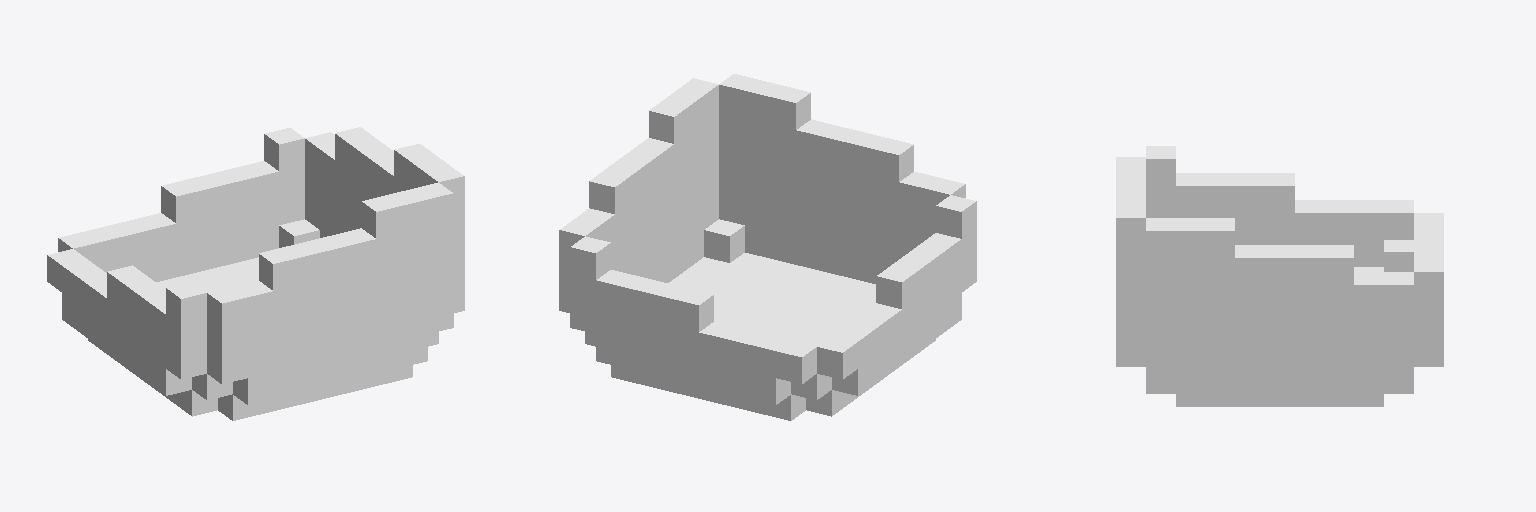
The model's file is egg_spotted_bottomhalf.obj.
3 renders of one model, left to right at view 1: azimuth 30°, elevation 25°; view 2: azimuth 150°, elevation 25°; view 3: azimuth 270°, elevation 25°, orthographic.
Visible parts, largest first — view 1: egg_spotted_bottomhalf; view 2: egg_spotted_bottomhalf; view 3: egg_spotted_bottomhalf.
Boxes of the visible parts, box(x1,y1,x2,y2) form: egg_spotted_bottomhalf: box(47, 127, 464, 420); egg_spotted_bottomhalf: box(559, 74, 976, 420); egg_spotted_bottomhalf: box(1116, 146, 1443, 406).
Size of the model in its own units: 1.1 by 0.7 by 1.1.